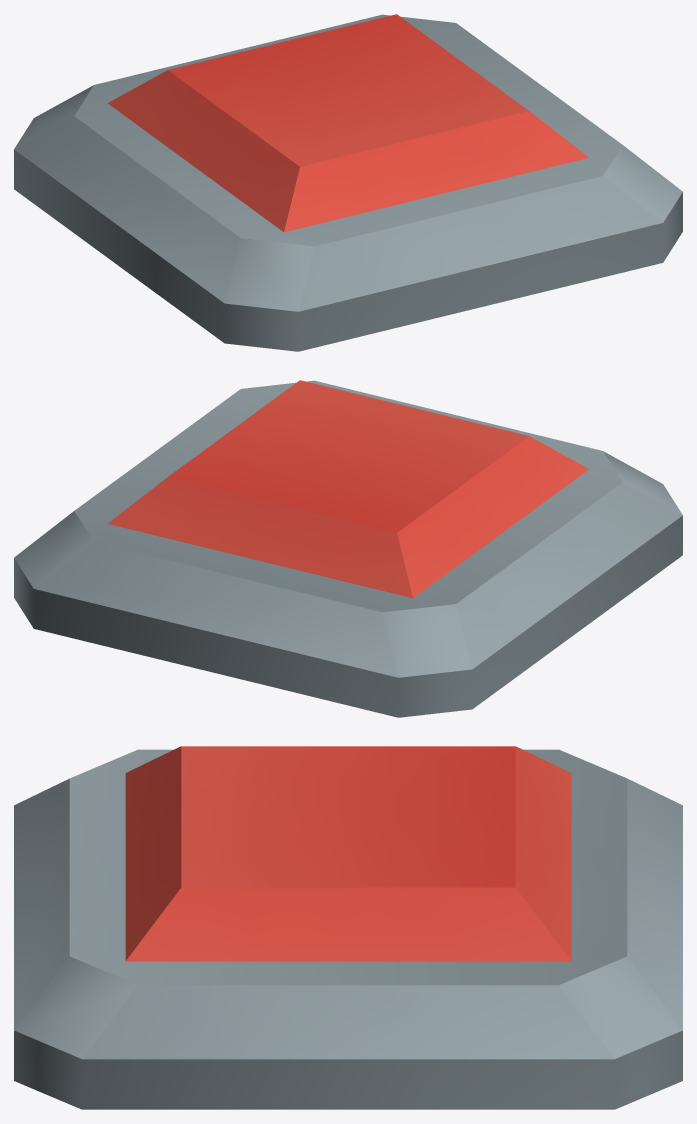
The model's file is buttonSquare.glb.
The picture shows the model from 3 angles, top to bottom: view 1: azimuth 30°, elevation 25°; view 2: azimuth 150°, elevation 25°; view 3: azimuth 270°, elevation 25°; orthographic projection. The views are drawn at different scales.
Parts seen in each view (by area): view 1: buttonSquare, knobSquare; view 2: buttonSquare, knobSquare; view 3: buttonSquare, knobSquare.
Boxes of the visible parts, x1,y1,x2,y2 form: buttonSquare: [14, 14, 682, 351]; knobSquare: [108, 14, 588, 232]; buttonSquare: [14, 380, 682, 717]; knobSquare: [108, 380, 588, 598]; buttonSquare: [14, 749, 682, 1109]; knobSquare: [125, 746, 571, 961].
Bounding box in the file's own units: 0.6 × 0.15 × 0.6.
Materials: 1 (1 with a texture image).
